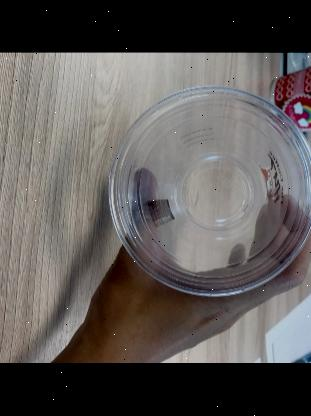Others: (105, 78, 311, 299)
